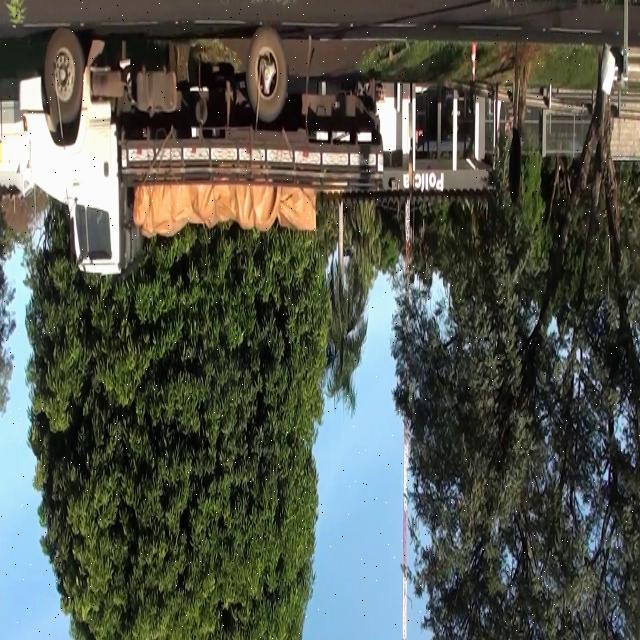-axle: (245, 27, 287, 119), (46, 31, 84, 120)
